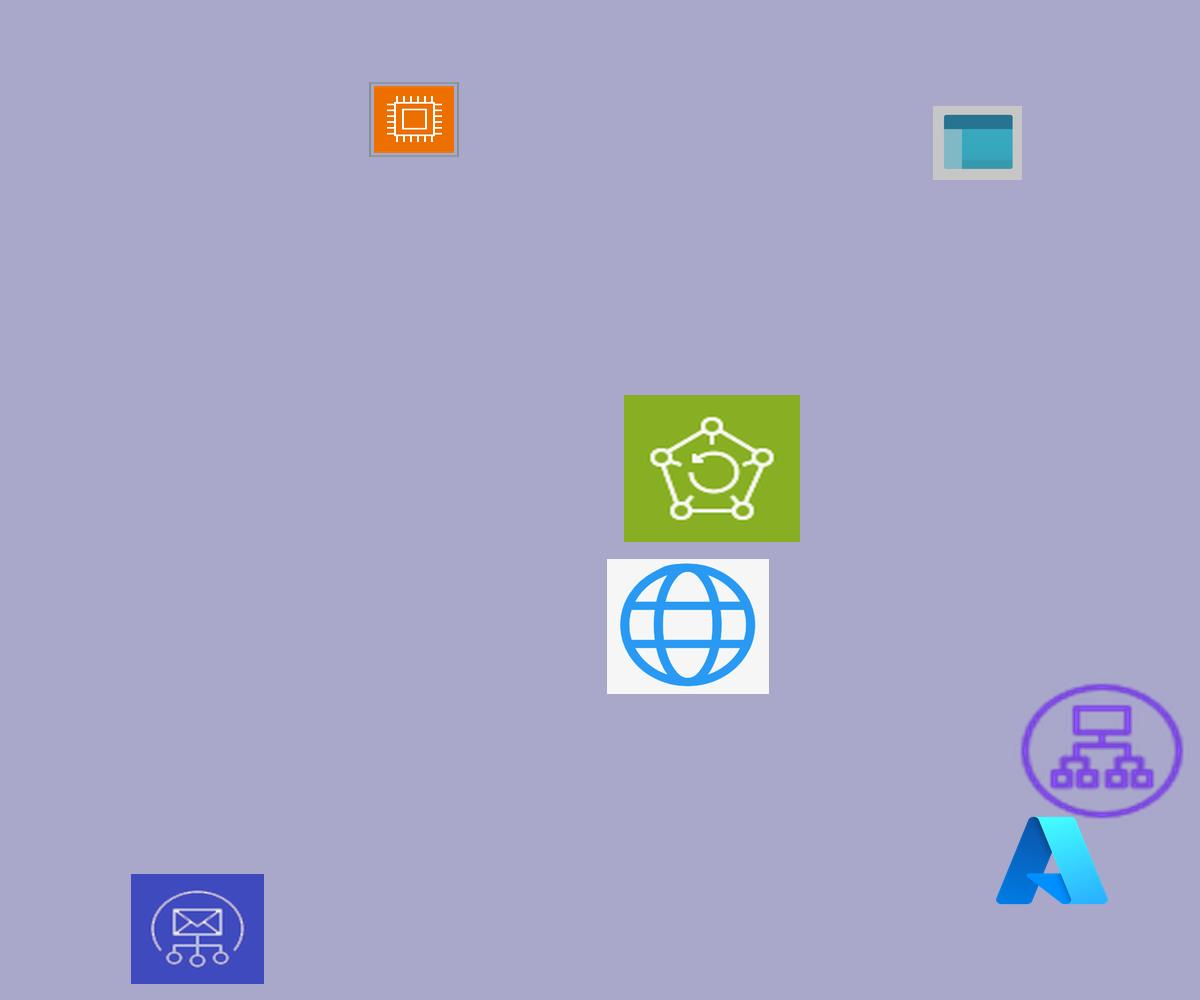AWS-Backup: (624, 395, 800, 542)
AWS-Category_Compute: (369, 82, 459, 157)
AWS-Res_Elastic-Load-Balancing_Application-Load-Balancer: (1014, 678, 1190, 824)
AWS-Simple-Email-Service: (131, 874, 264, 984)
Azure_http: (607, 559, 769, 694)
Azure_management-portal: (933, 106, 1022, 180)
Azure_services: (991, 810, 1113, 911)
